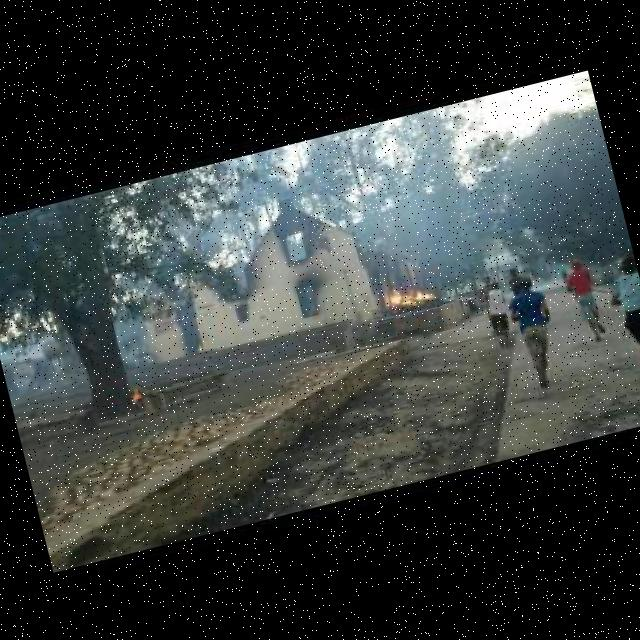fire: (371, 264, 443, 320)
